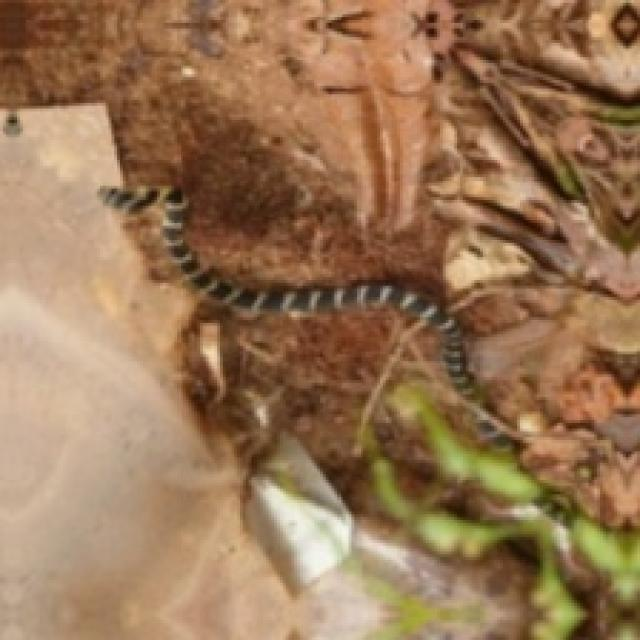king cobra: (100, 186, 494, 451)
